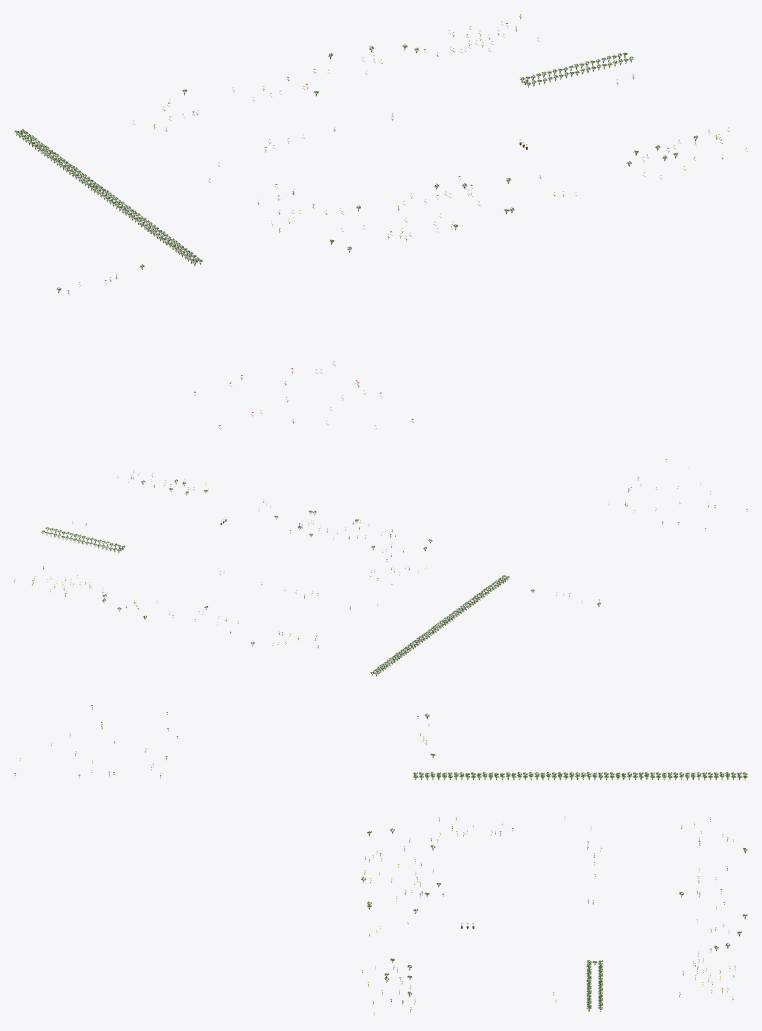
3 renders of one model, top to bottom at view 1: azimuth 30°, elevation 25°; view 2: azimuth 150°, elevation 25°; view 3: azimuth 270°, elevation 25°, orthographic. The views are drawn at different scales.
Parts seen in each view (by area): view 1: GROUND_FLORA_s_-7_5; view 2: GROUND_FLORA_s_-7_5; view 3: GROUND_FLORA_s_-7_5.
Part boxes in pixels (bbox=[...]): GROUND_FLORA_s_-7_5: bbox=[14, 14, 747, 429]; GROUND_FLORA_s_-7_5: bbox=[14, 459, 747, 676]; GROUND_FLORA_s_-7_5: bbox=[14, 705, 747, 1014].
Size of the model in its own units: 126 by 2.94 by 127.
